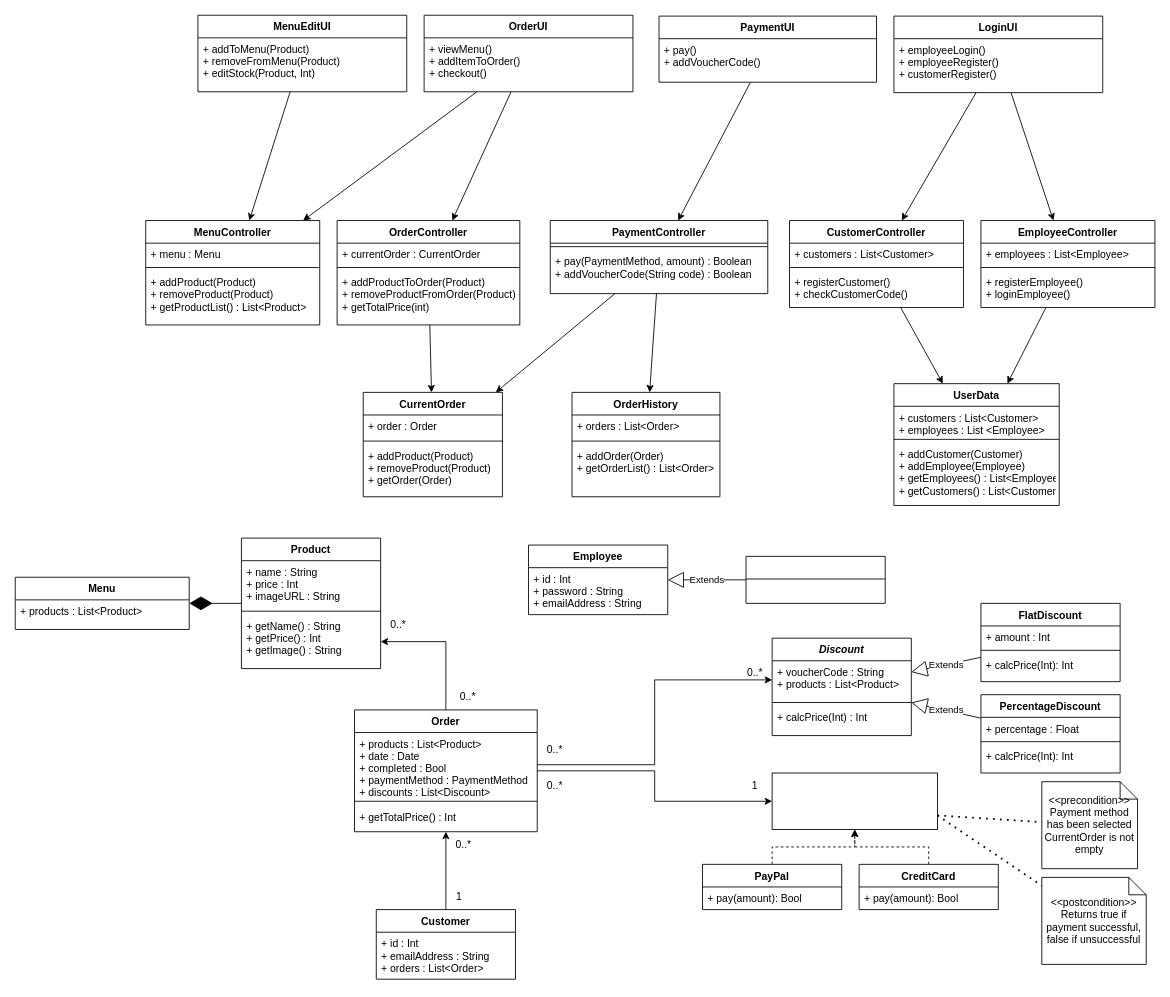
The diagram is 1170 pixels wide and 997 high, and some of its shapes have lost their labels. Here are the shapes that lost their labels. From the top down, the centre of each, then its label:
point 815,579: Admin
point 854,801: <<Interface>> PaymentMethod + pay(amount): Bool
